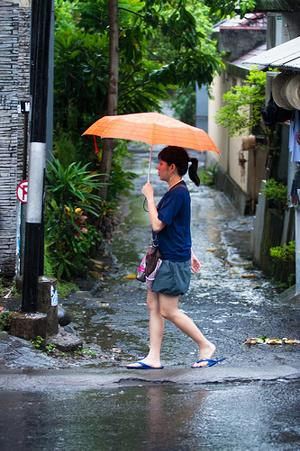person: (125, 146, 216, 370)
